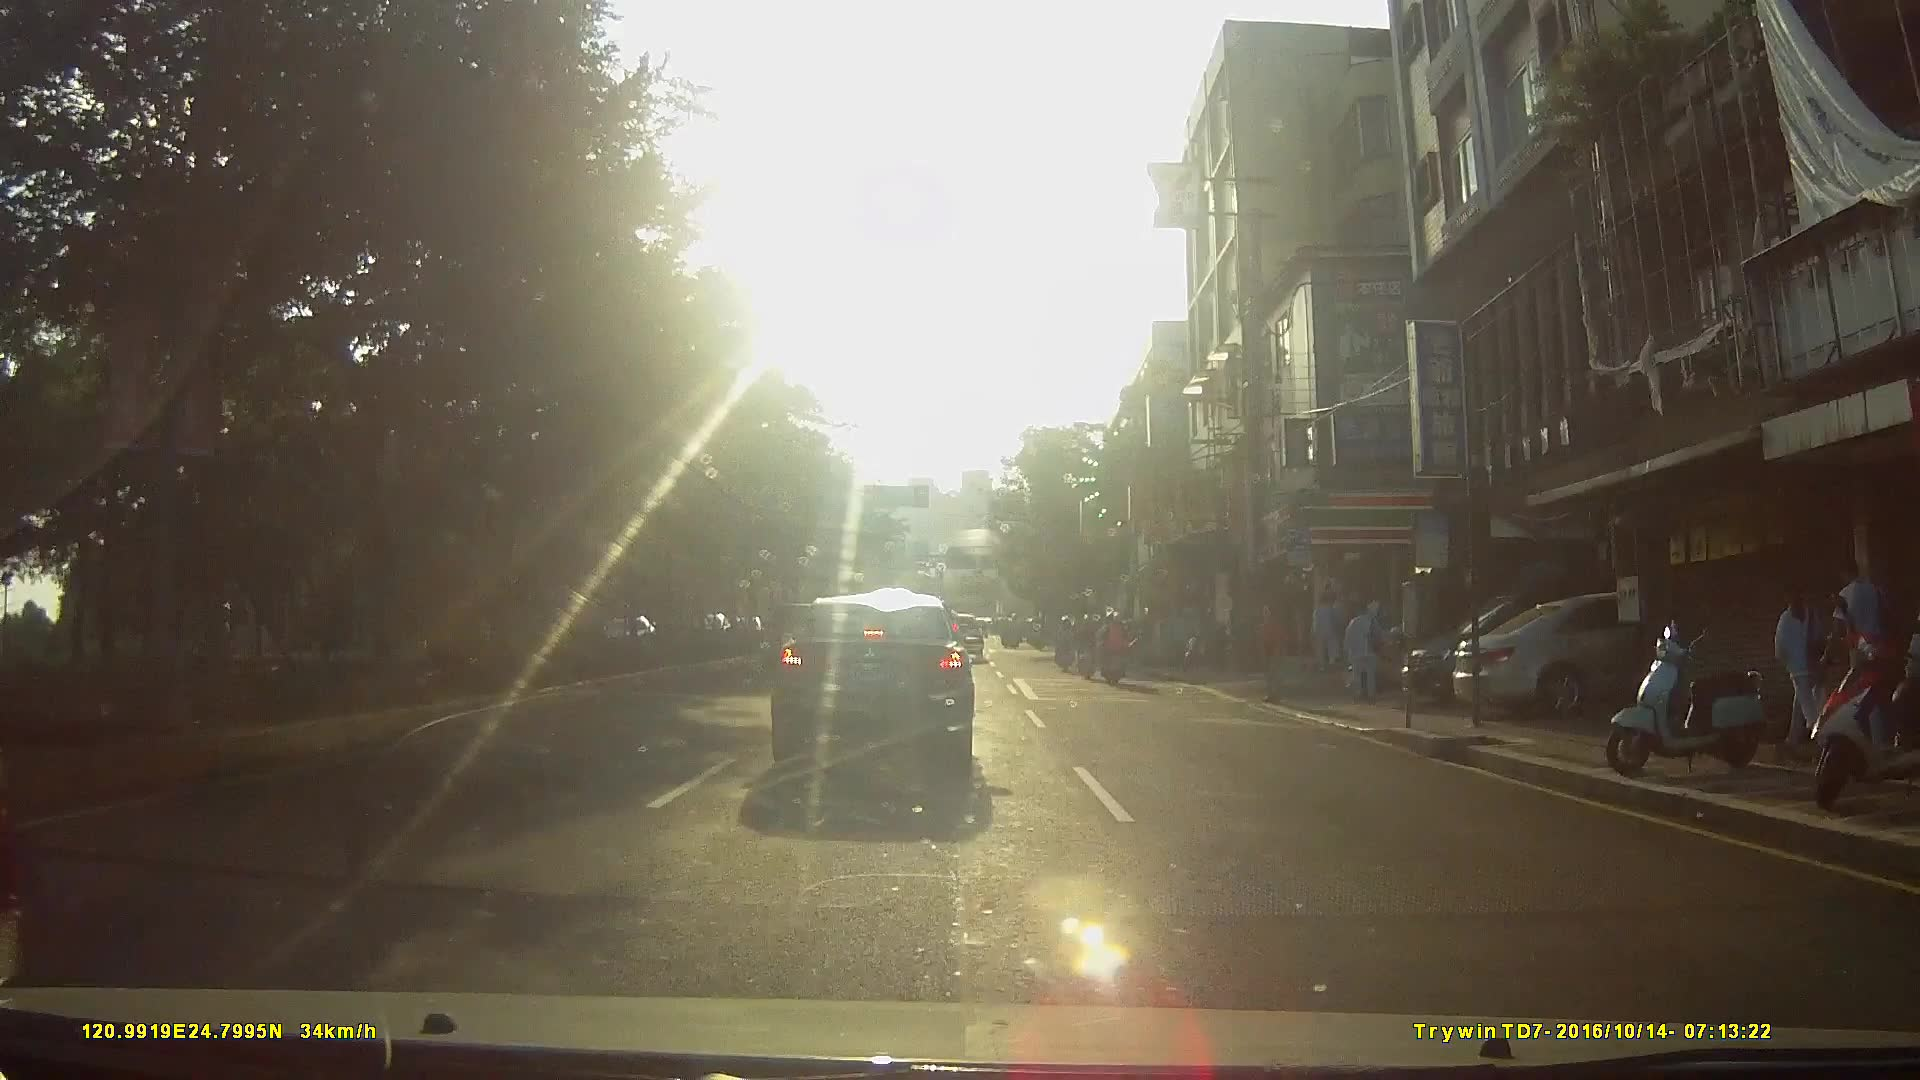pedestrian: (1825, 555, 1892, 760), (1774, 572, 1833, 748), (1887, 579, 1920, 750), (1339, 592, 1386, 701), (1256, 599, 1285, 703)
rider: (1097, 606, 1135, 687), (1073, 613, 1099, 683), (1054, 615, 1077, 676)
vehicle: (1442, 586, 1833, 720), (752, 578, 996, 778)
